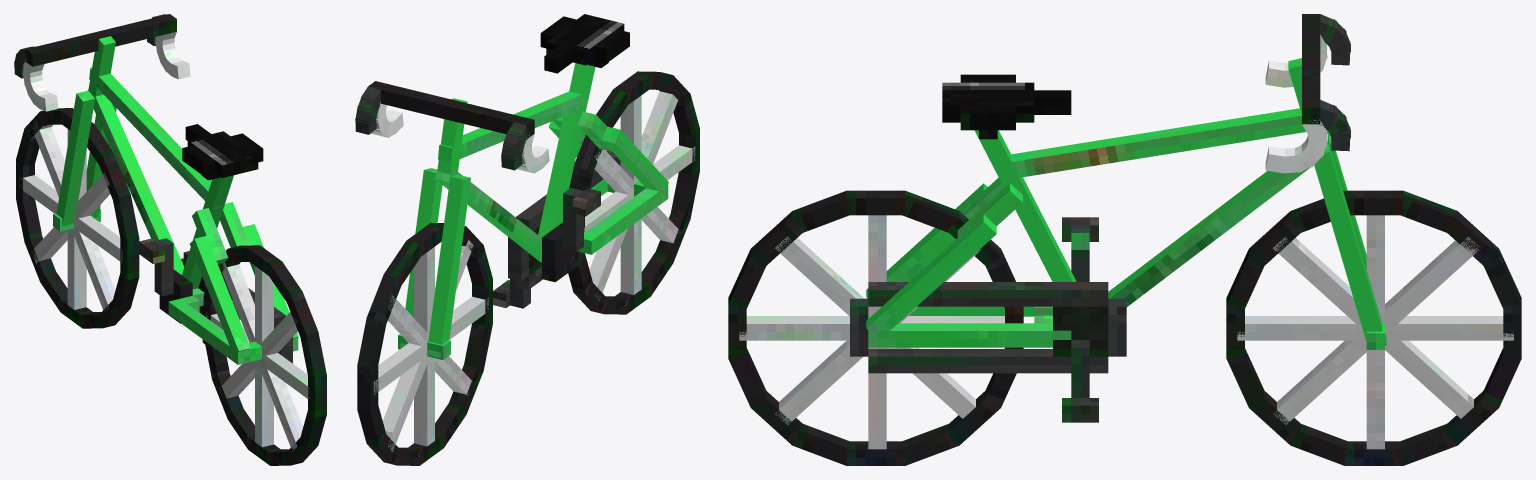
The model's file is bici.glb.
3 renders of one model, left to right at view 1: azimuth 30°, elevation 25°; view 2: azimuth 150°, elevation 25°; view 3: azimuth 270°, elevation 25°, orthographic. The views are drawn at different scales.
Parts seen in each view (by area): view 1: Body_7, Body_13, Rims2_87, Frontpart_19, Rims2_86, Rims_109, Body_11, Rims_107, Saddle_36, Body_0, Rims2_88, Rims_108 (+44 smaller); view 2: Frontpart_19, Body_9, Rims_108, Body_13, Rims2_88, Rims2_86, Body_7, Rims_107, Body_0, Rims_110, Saddle_36, Rims_109 (+49 smaller); view 3: Body_13, Rims_107, Rims_109, Chain_33, Chain_34, Body_7, Rims_110, Body_1, Frontpart_20, Body_8, Rims2_88, Rims_108 (+45 smaller).
Boxes of the visible parts, x1=… form: Body_7: x1=87, y1=86, x2=184, y2=274; Body_13: x1=89, y1=67, x2=223, y2=208; Rims2_87: x1=220, y1=262, x2=302, y2=451; Frontpart_19: x1=56, y1=90, x2=94, y2=231; Rims2_86: x1=255, y1=266, x2=273, y2=447; Rims_109: x1=32, y1=122, x2=115, y2=310; Body_11: x1=190, y1=236, x2=250, y2=355; Rims_107: x1=19, y1=175, x2=122, y2=262; Saddle_36: x1=187, y1=131, x2=258, y2=177; Body_0: x1=168, y1=298, x2=249, y2=364; Rims2_88: x1=220, y1=312, x2=297, y2=398; Rims_108: x1=67, y1=129, x2=86, y2=309; Frontpart_19: x1=426, y1=174, x2=470, y2=357; Body_9: x1=538, y1=63, x2=595, y2=237; Rims_108: x1=414, y1=247, x2=434, y2=446; Body_13: x1=438, y1=91, x2=588, y2=162; Rims2_88: x1=589, y1=91, x2=678, y2=300; Rims2_86: x1=620, y1=95, x2=641, y2=294; Body_7: x1=434, y1=168, x2=541, y2=262; Rims_107: x1=373, y1=296, x2=488, y2=394; Body_0: x1=578, y1=185, x2=668, y2=254; Rims_110: x1=383, y1=240, x2=473, y2=451; Saddle_36: x1=546, y1=14, x2=624, y2=65; Rims_109: x1=388, y1=296, x2=471, y2=395; Body_13: x1=999, y1=108, x2=1305, y2=177; Rims_107: x1=1237, y1=316, x2=1513, y2=340; Rims_109: x1=1273, y1=237, x2=1478, y2=424; Chain_33: x1=868, y1=349, x2=1108, y2=373; Chain_34: x1=868, y1=282, x2=1108, y2=306; Body_7: x1=1108, y1=134, x2=1332, y2=306; Rims_110: x1=1273, y1=237, x2=1473, y2=418; Body_1: x1=868, y1=323, x2=1052, y2=347; Frontpart_20: x1=1314, y1=144, x2=1386, y2=345; Body_8: x1=866, y1=214, x2=996, y2=330; Rims2_88: x1=774, y1=236, x2=975, y2=418; Rims_108: x1=1366, y1=215, x2=1384, y2=449.
Bounding box in the file's own units: 0.6392 × 1.28 × 2.29.
1 material, 1 textured.
